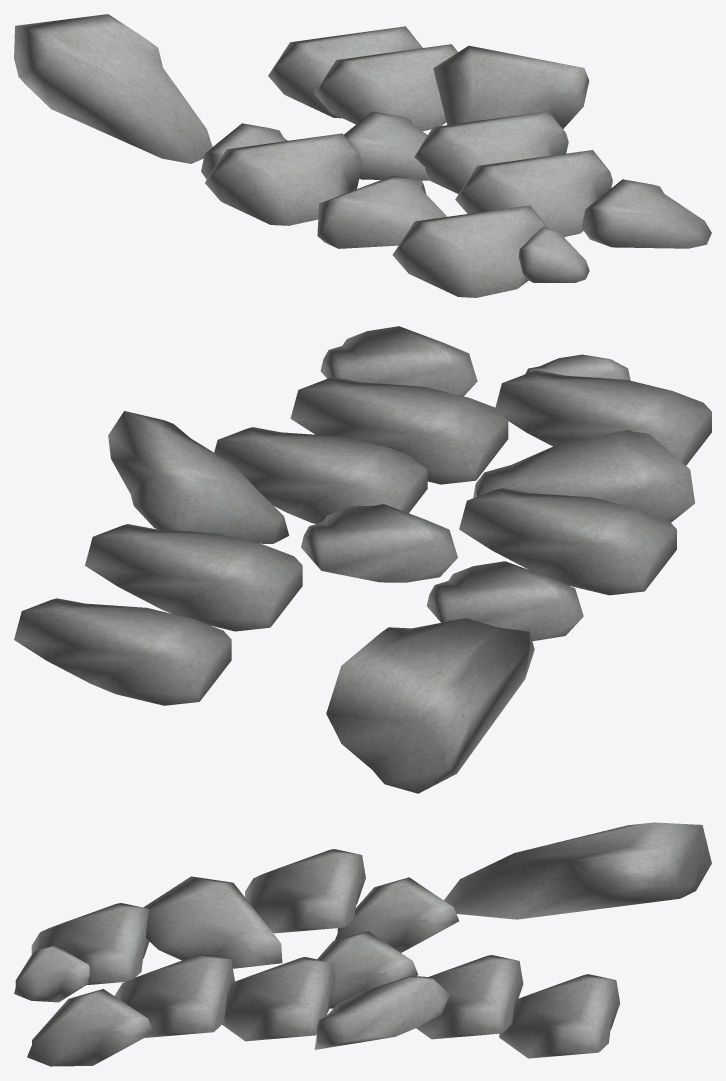
The model's file is rock.fbx.
3 views of the same model, one above another, from view 1: azimuth 30°, elevation 25°; view 2: azimuth 150°, elevation 25°; view 3: azimuth 270°, elevation 25° (orthographic). The views are drawn at different scales.
Visible parts, largest first — view 1: Boulder4, Boulder1, Boulder3, Boulder13, Boulder7, Boulder6, Boulder8, Boulder2, Boulder12, Boulder5, Boulder11, Boulder9 (+1 smaller); view 2: Boulder4, Boulder5, Boulder1, Boulder6, Boulder7, Boulder13, Boulder8, Boulder3, Boulder12, Boulder11, Boulder10, Boulder2 (+1 smaller); view 3: Boulder4, Boulder12, Boulder1, Boulder5, Boulder8, Boulder7, Boulder2, Boulder13, Boulder6, Boulder3, Boulder10, Boulder11 (+1 smaller).
Part boxes in pixels (<box>): Boulder4: <box>14,14,212,163</box>; Boulder1: <box>205,133,362,225</box>; Boulder3: <box>392,205,547,297</box>; Boulder13: <box>433,45,589,128</box>; Boulder7: <box>455,150,612,236</box>; Boulder6: <box>314,44,457,131</box>; Boulder8: <box>414,111,568,193</box>; Boulder2: <box>581,179,711,248</box>; Boulder12: <box>317,176,446,248</box>; Boulder5: <box>268,26,422,118</box>; Boulder11: <box>344,111,429,180</box>; Boulder9: <box>518,227,589,282</box>; Boulder4: <box>326,618,534,793</box>; Boulder5: <box>14,598,231,705</box>; Boulder1: <box>459,488,676,595</box>; Boulder6: <box>85,524,302,631</box>; Boulder7: <box>290,377,508,484</box>; Boulder13: <box>108,411,289,543</box>; Boulder8: <box>214,427,427,523</box>; Boulder3: <box>495,370,711,465</box>; Boulder12: <box>473,430,694,522</box>; Boulder11: <box>301,504,457,582</box>; Boulder10: <box>427,561,583,641</box>; Boulder2: <box>320,326,477,396</box>; Boulder4: <box>444,822,711,919</box>; Boulder12: <box>143,876,282,968</box>; Boulder1: <box>245,849,365,933</box>; Boulder5: <box>499,974,620,1058</box>; Boulder8: <box>222,957,335,1041</box>; Boulder7: <box>114,953,234,1037</box>; Boulder2: <box>27,989,153,1066</box>; Boulder13: <box>314,975,449,1049</box>; Boulder6: <box>416,955,523,1039</box>; Boulder3: <box>31,903,149,985</box>; Boulder10: <box>335,877,458,952</box>; Boulder11: <box>317,931,418,1008</box>.
Bounding box in the file's own units: 3756 × 774 × 5570.
